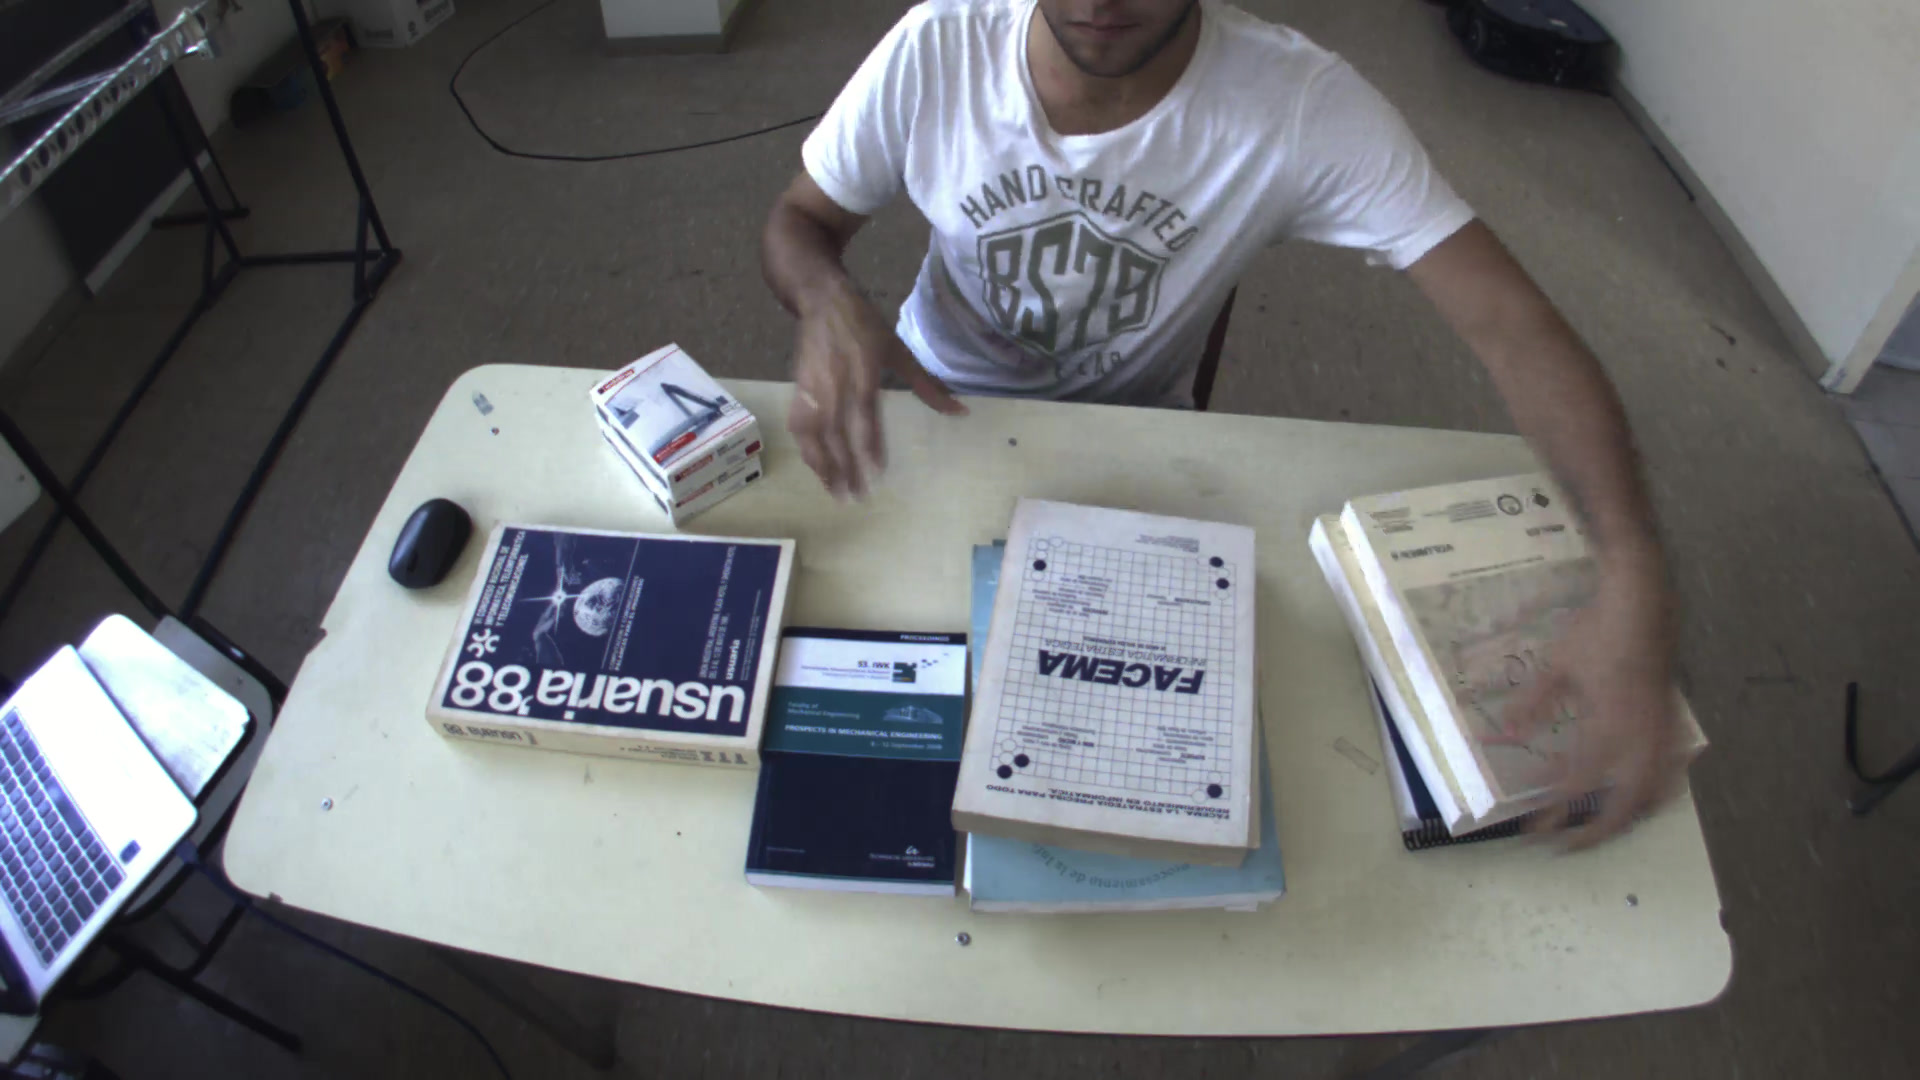hand: (777, 291, 967, 506)
